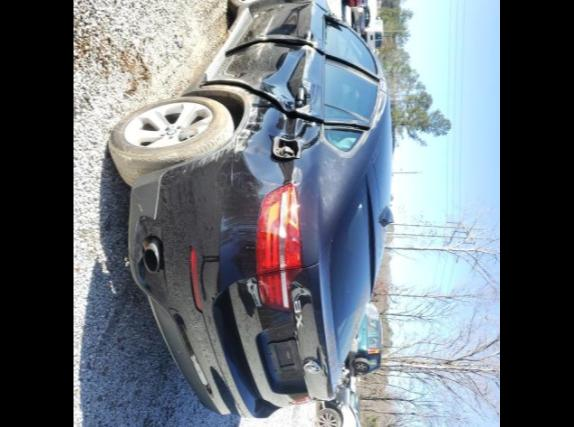Broken part: (198, 34, 384, 132), (272, 134, 302, 160)
Dent: (232, 86, 322, 186), (238, 2, 306, 44), (374, 88, 386, 120)
Missing part: (258, 324, 308, 392), (324, 0, 342, 22)
Scratch: (178, 84, 260, 172), (363, 66, 386, 143)
